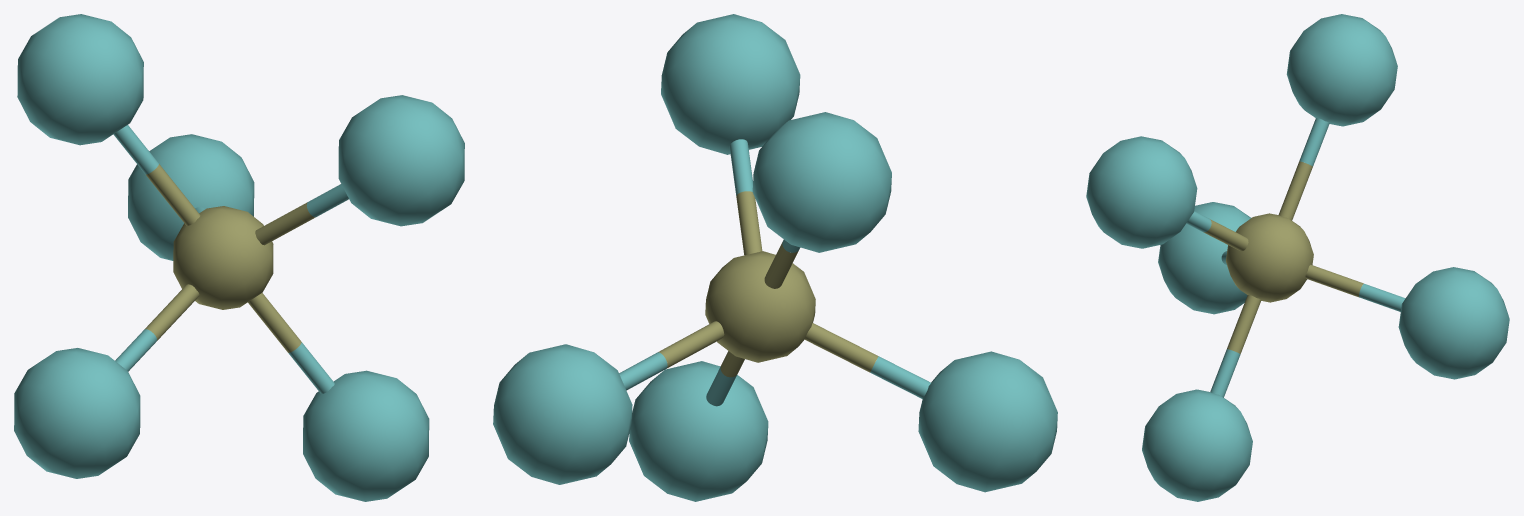
The model's file is PCl5.gltf.
The picture shows the model from 3 angles, left to right: view 1: azimuth 30°, elevation 25°; view 2: azimuth 150°, elevation 25°; view 3: azimuth 270°, elevation 25°; orthographic projection. The views are drawn at different scales.
Visible parts, largest first — view 1: vmd_mol2_rep0; view 2: vmd_mol2_rep0; view 3: vmd_mol2_rep0.
Boxes of the visible parts, x1=… form: vmd_mol2_rep0: x1=14, y1=14, x2=464, y2=501; vmd_mol2_rep0: x1=493, y1=14, x2=1057, y2=501; vmd_mol2_rep0: x1=1086, y1=14, x2=1509, y2=501.
Size of the model in its own units: 1.9 by 2.13 by 2.07.
